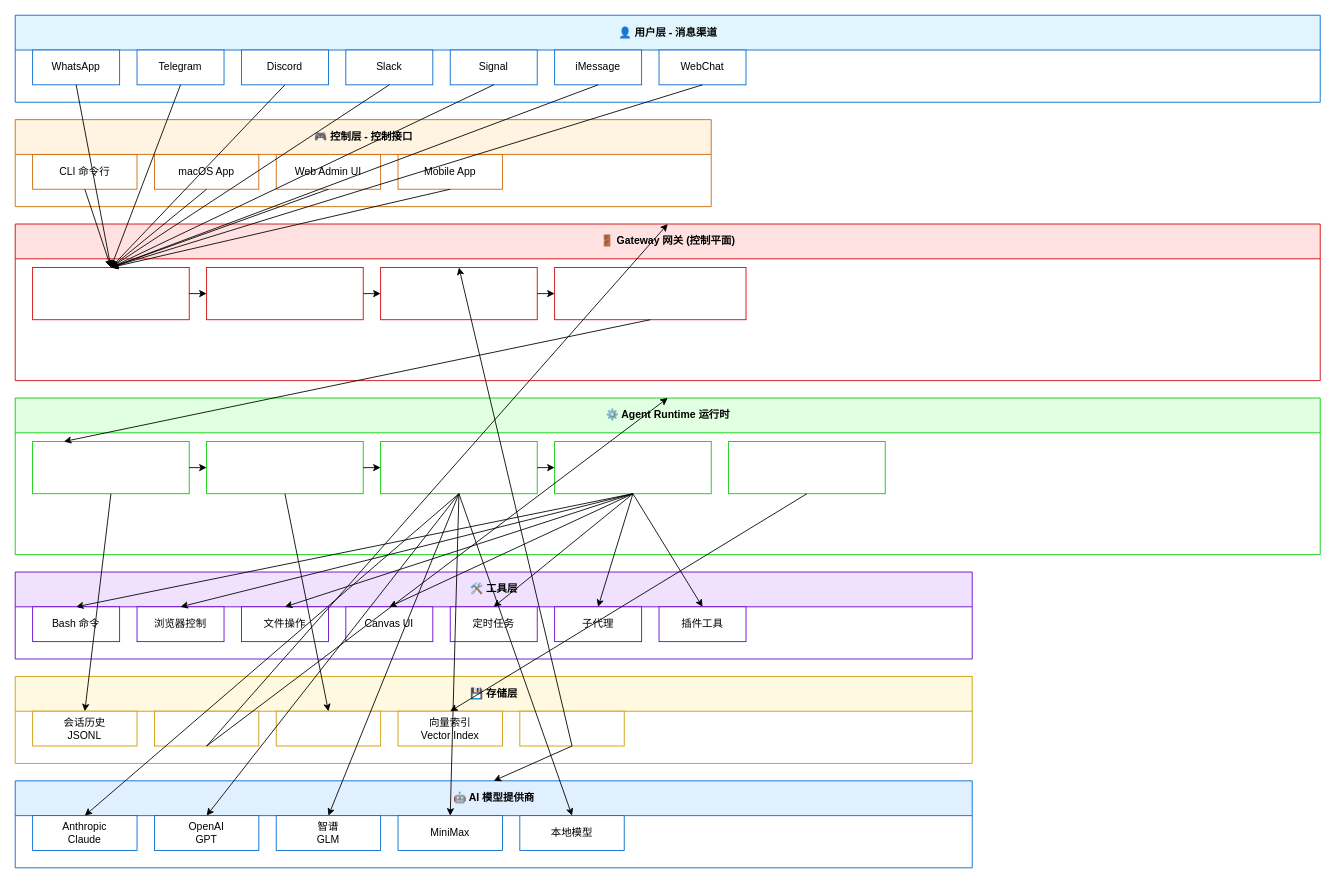
This 1335x883 diagram has some shape labels left out. The centre of each missing label's shape, as x and y in pixels:
WebSocket 服务器 端口 18789: pixel 110 293
上下文组装 Context Assembly: pixel 284 467
事件系统 agent/chat/presence/health: pixel 650 293
会话管理器 Session Manager: pixel 110 467
凭证存储 Credentials: pixel 571 728
工具执行 Tool Execution: pixel 632 467
模型调用 Model Invocation: pixel 458 467
渠道适配器 Channel Adapters: pixel 284 293
认证与配对 Authentication: pixel 458 293
记忆文件 memory/*.md: pixel 328 728
记忆系统 Memory Search: pixel 806 467
配置文件 openclaw.json: pixel 206 728
